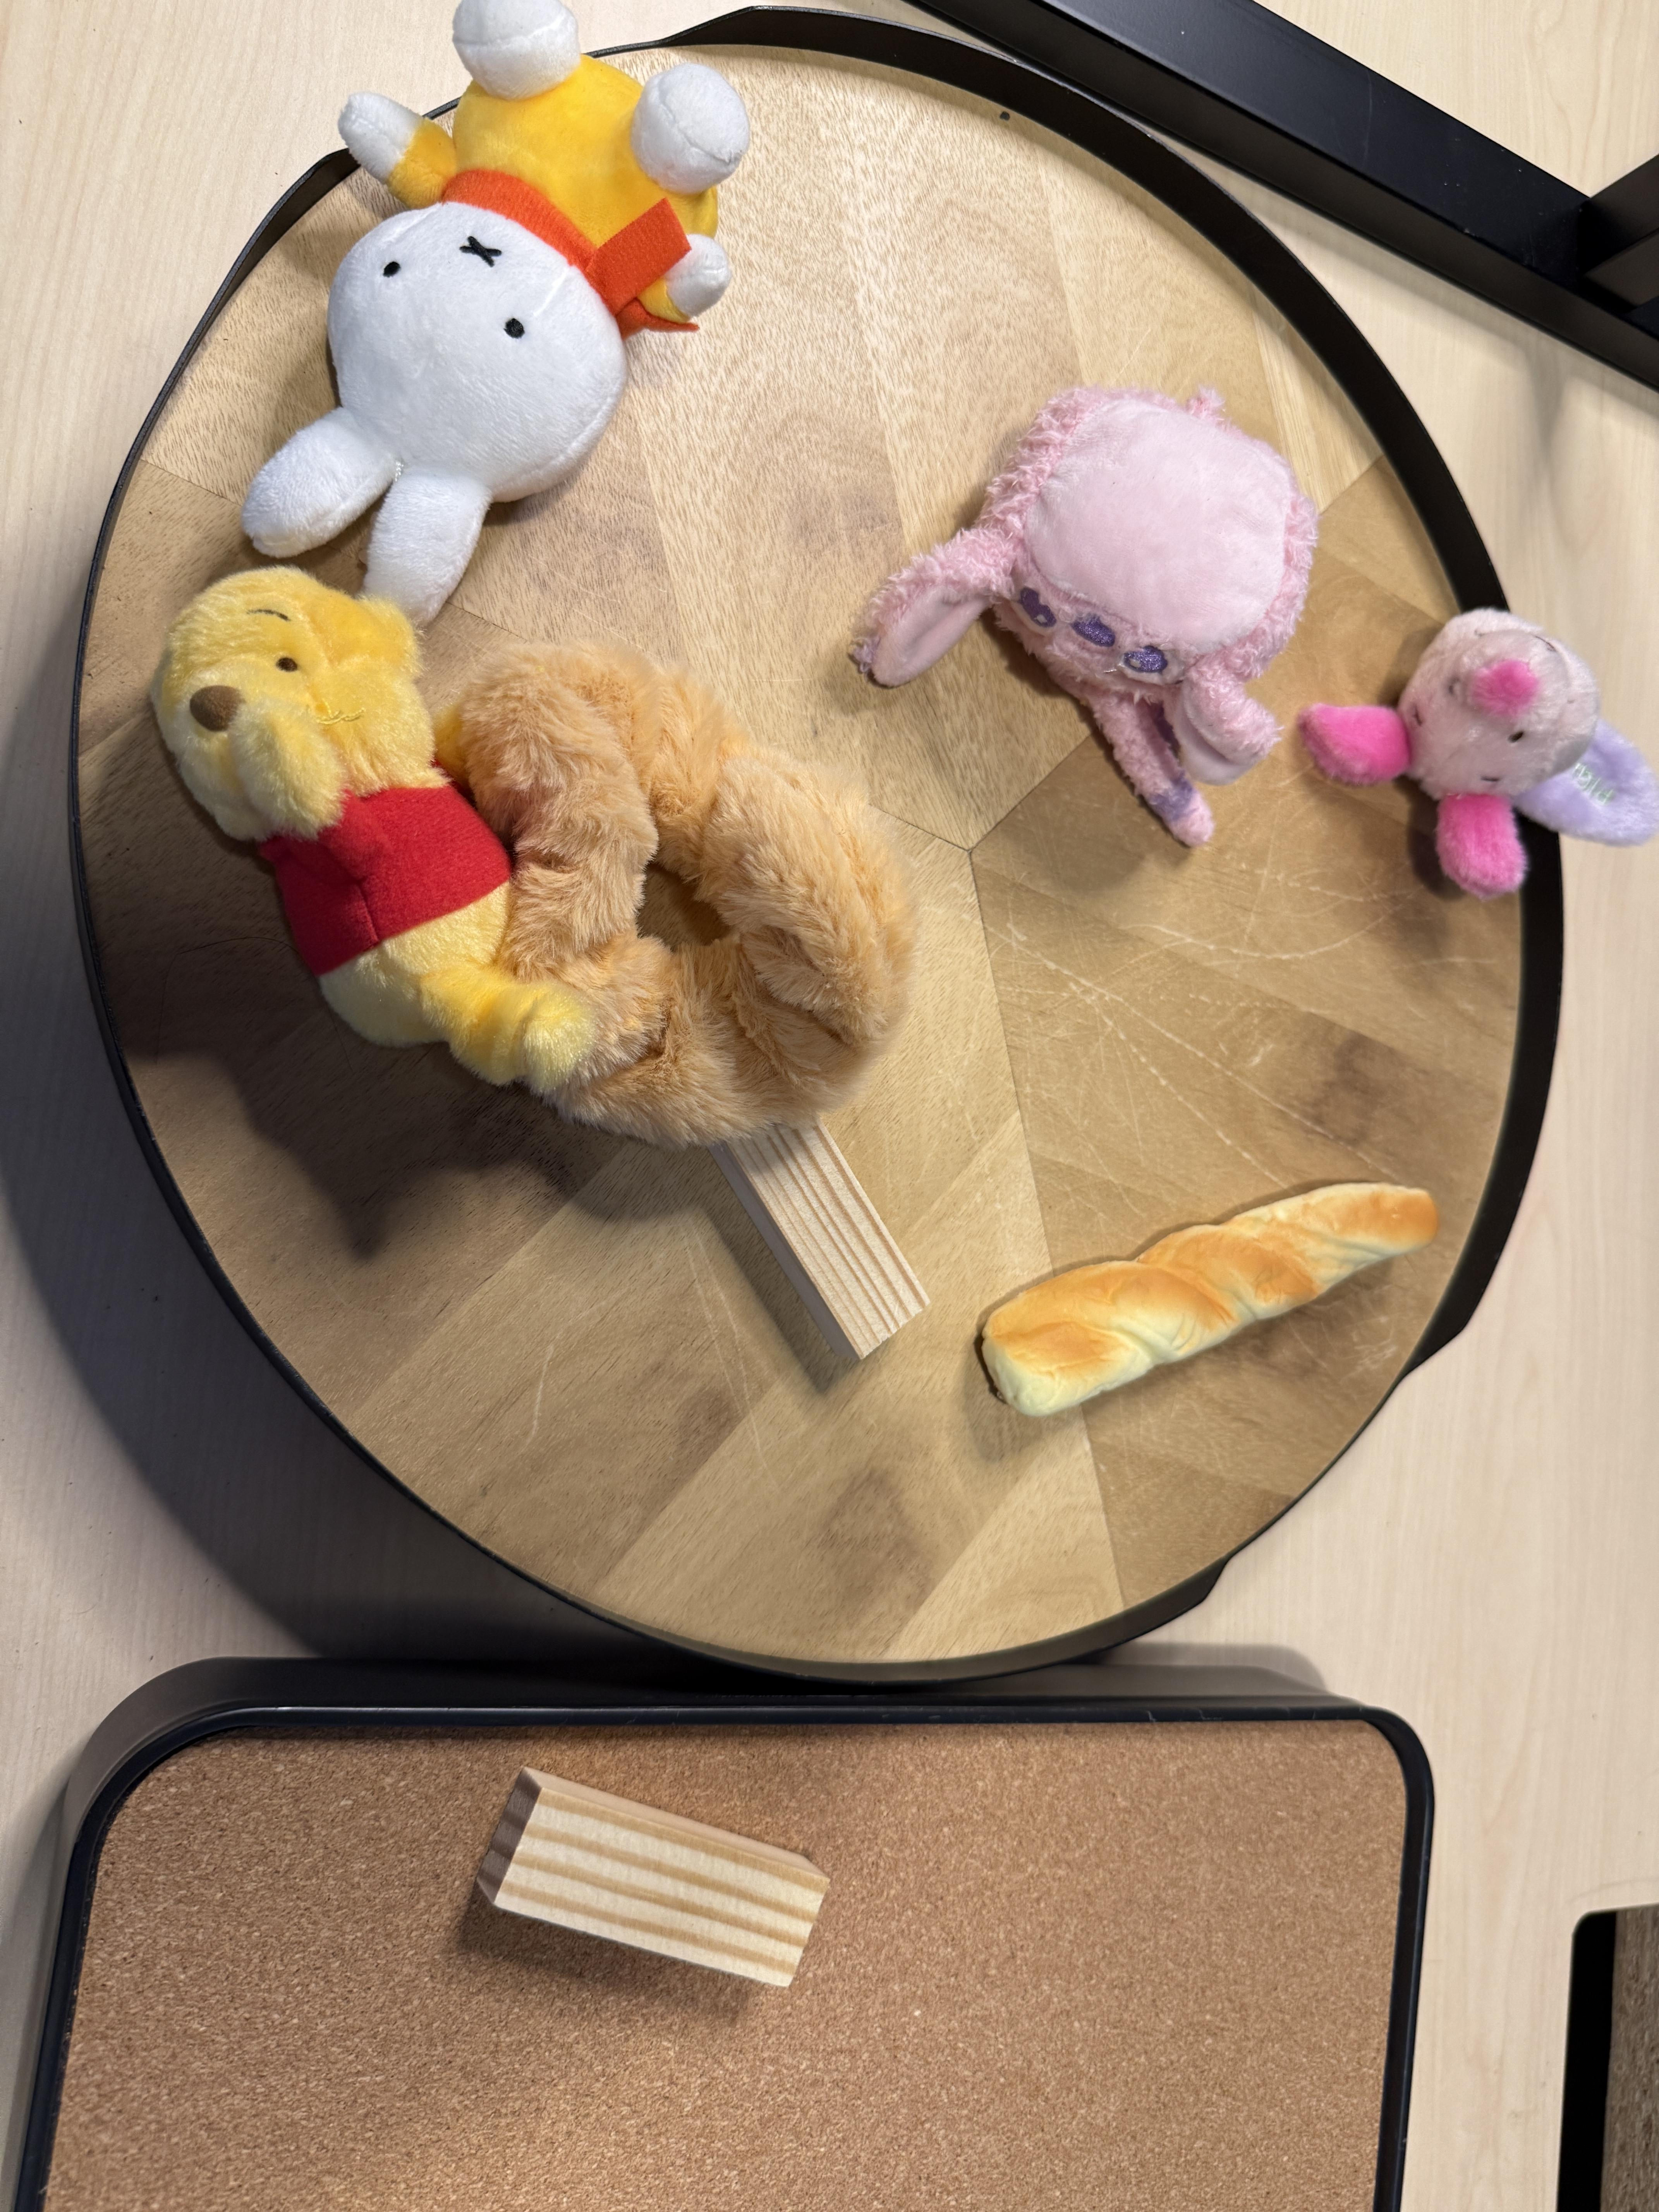block: (481, 1770, 833, 2001), (713, 1096, 941, 1364)
bread: (983, 1169, 1438, 1432)
doll: (146, 570, 920, 1134), (247, 3, 755, 617), (856, 376, 1316, 852), (1312, 601, 1659, 888)
